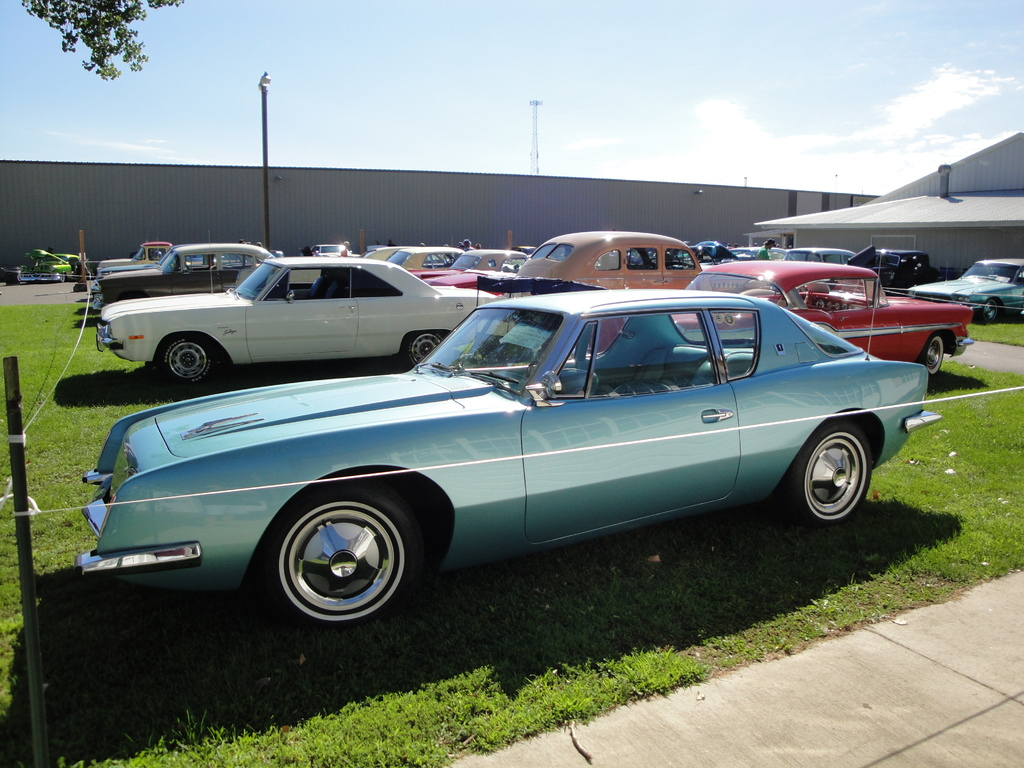mobil: (101, 292, 921, 643), (83, 257, 507, 368)
